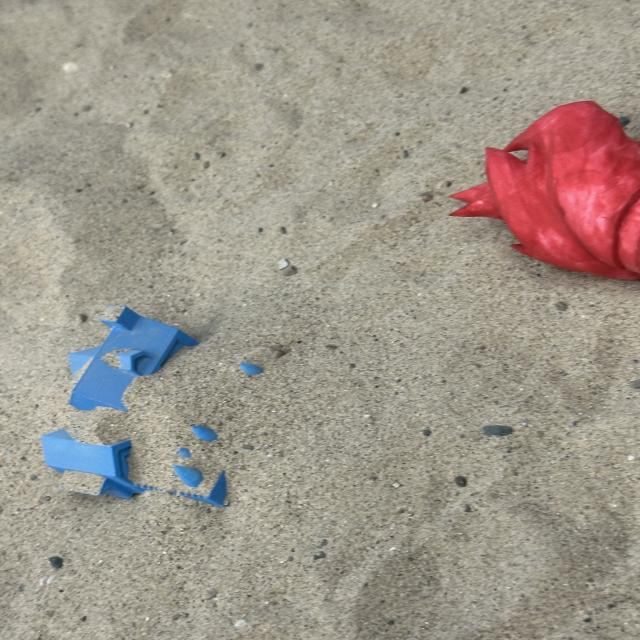fire: (448, 98, 639, 281)
house: (49, 306, 273, 506)
